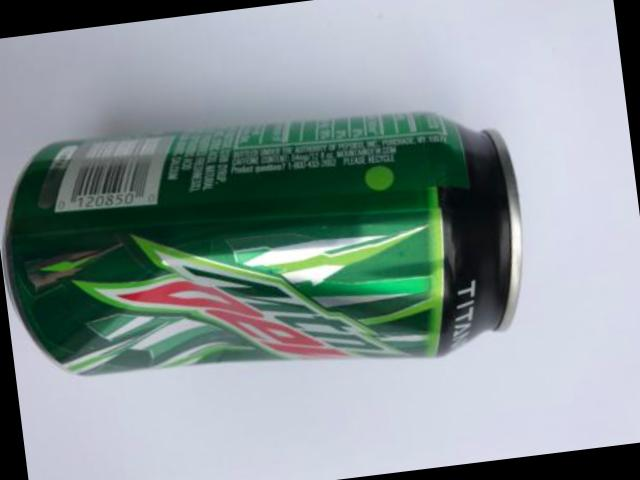metal: (6, 116, 521, 376)
